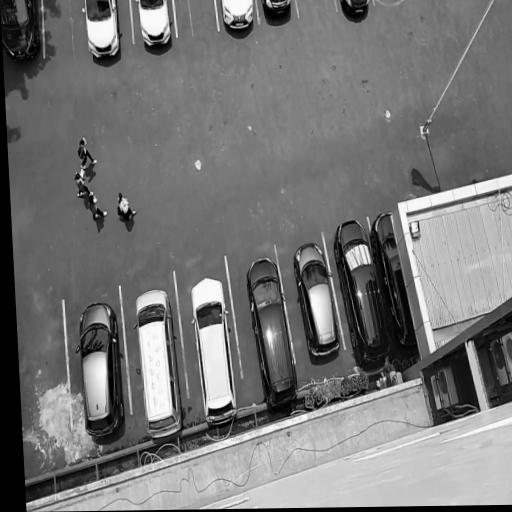Car: (327, 211, 395, 370), (238, 253, 300, 413), (130, 285, 190, 446), (186, 268, 247, 426), (70, 297, 129, 442), (367, 211, 420, 367), (287, 230, 346, 367), (81, 0, 128, 66), (0, 0, 44, 67), (133, 0, 177, 57), (216, 0, 259, 36), (260, 0, 298, 20), (337, 0, 375, 20)
Space Available: (17, 299, 71, 431), (45, 0, 88, 56), (173, 0, 218, 34), (296, 0, 336, 17)
